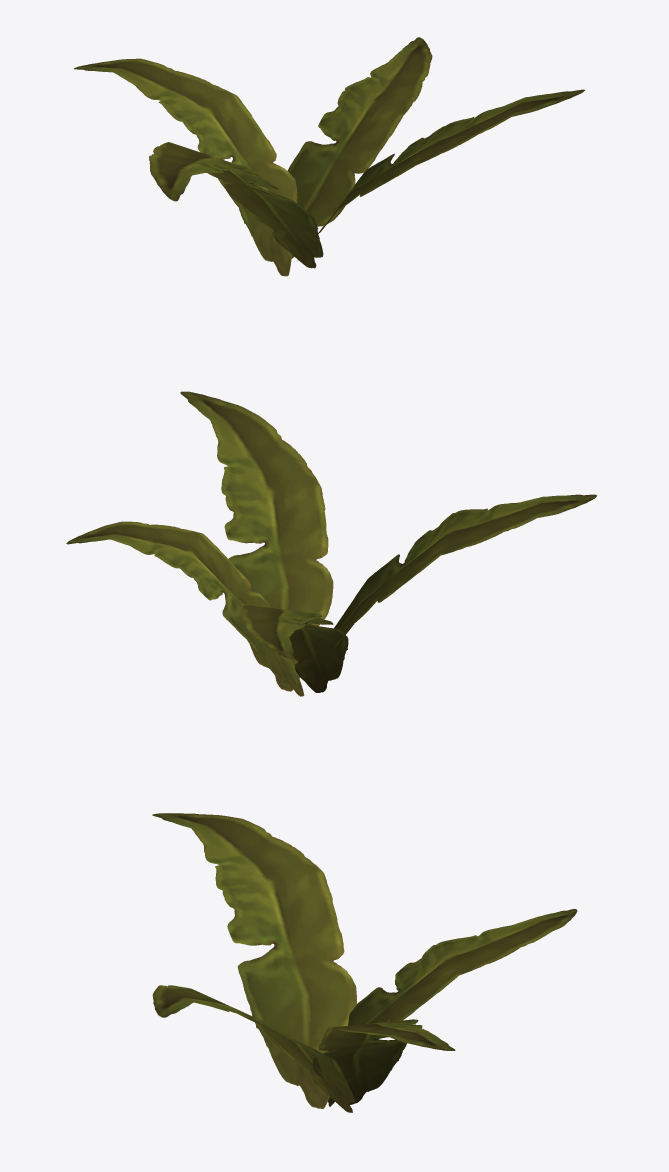
The model's file is SL_guangmu02.FBX.
3 views of the same model, one above another, from view 1: azimuth 30°, elevation 25°; view 2: azimuth 150°, elevation 25°; view 3: azimuth 270°, elevation 25° (orthographic). The views are drawn at different scales.
Visible parts, largest first — view 1: 对象308, 对象307, 对象306, 对象305; view 2: 对象305, 对象308, 对象306, 对象307; view 3: 对象306, 对象307, 对象308, 对象305.
Boxes of the visible parts, box(x1,y1,x2,y2) form: 对象308: box(287, 37, 432, 258); 对象307: box(74, 58, 297, 276); 对象306: box(149, 142, 323, 268); 对象305: box(318, 89, 584, 233); 对象305: box(180, 391, 333, 691); 对象308: box(66, 521, 304, 696); 对象306: box(334, 494, 596, 646); 对象307: box(241, 604, 348, 692); 对象306: box(152, 813, 356, 1108); 对象307: box(328, 909, 577, 1106); 对象308: box(312, 1019, 455, 1104); 对象305: box(152, 985, 354, 1112).
Bounding box in the file's own units: 158 × 59.68 × 146.
